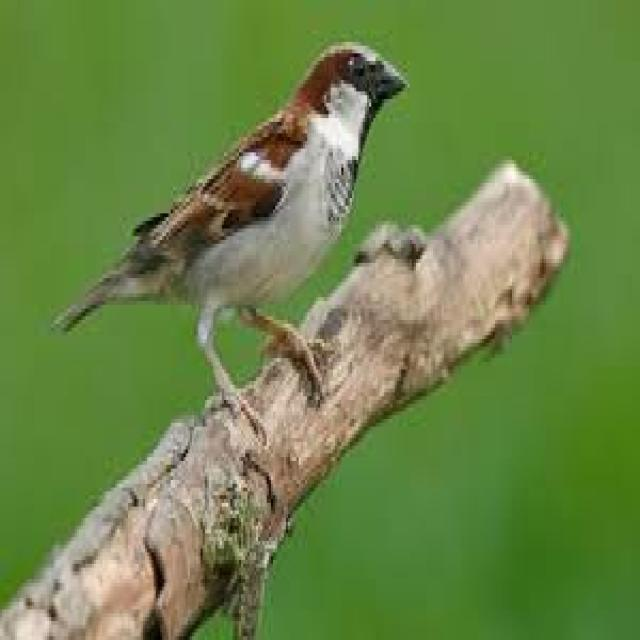Sparrow: (66, 32, 411, 423)
